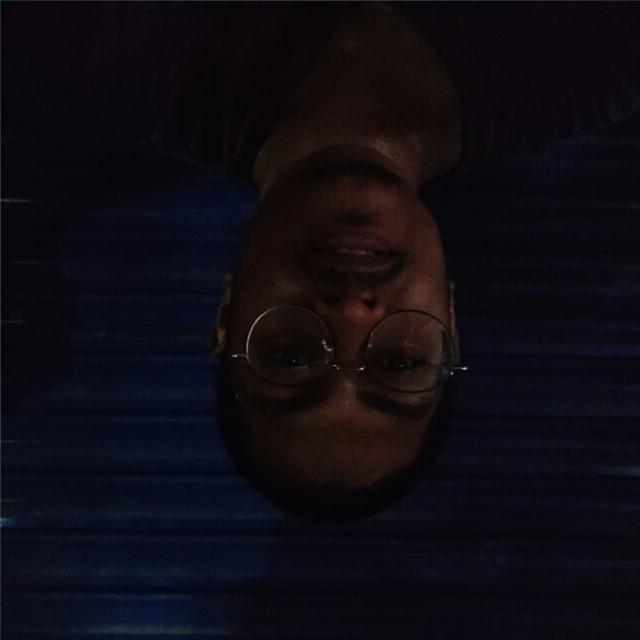Natural: (145, 112, 592, 555)
